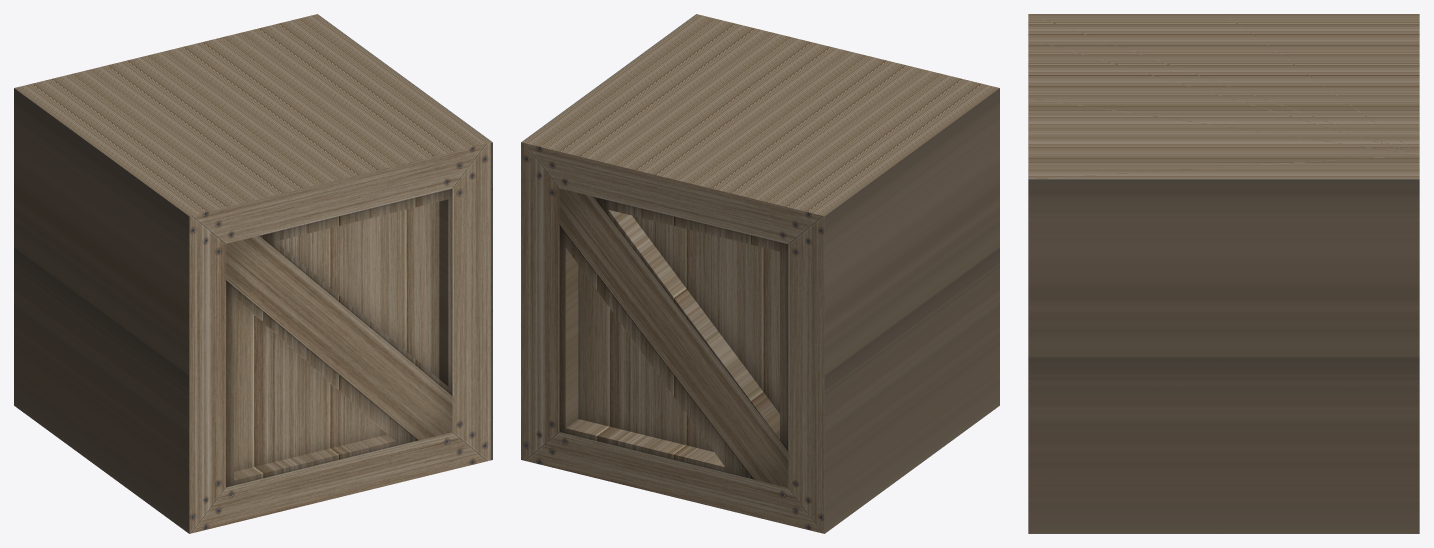
The model's file is crate.fbx.
The picture shows the model from 3 angles, left to right: view 1: azimuth 30°, elevation 25°; view 2: azimuth 150°, elevation 25°; view 3: azimuth 270°, elevation 25°; orthographic projection. The views are drawn at different scales.
Visible parts, largest first — view 1: crate; view 2: crate; view 3: crate.
Boxes of the visible parts, box(x1,y1,x2,y2) form: crate: box(14, 14, 492, 533); crate: box(521, 14, 999, 533); crate: box(1028, 14, 1419, 533).
Size of the model in its own units: 5 by 5 by 5.
